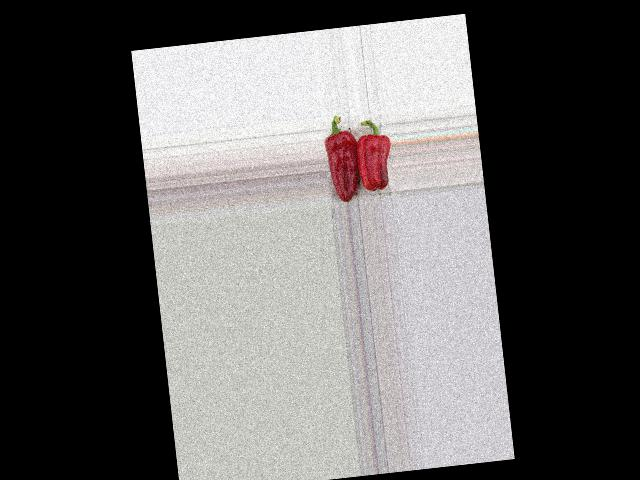bell_pepper: (321, 111, 363, 203)
